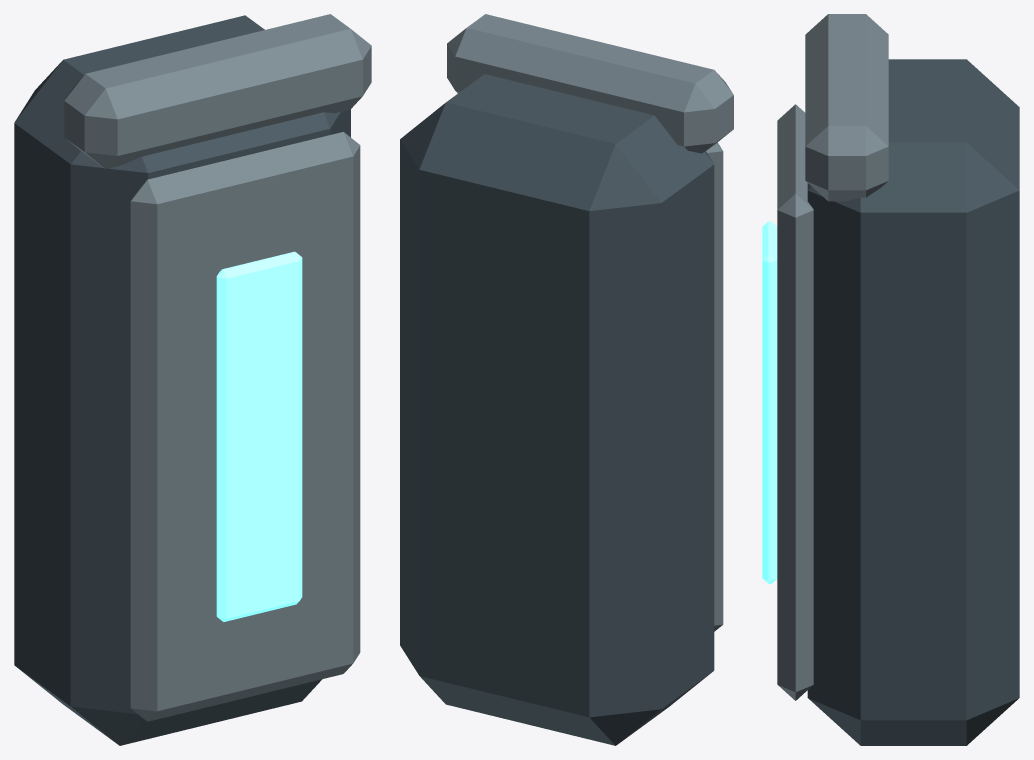
File: FTF_Equipment_EngineeringPlasticLegArmor_Left.glb
The picture shows the model from 3 angles, left to right: view 1: azimuth 30°, elevation 25°; view 2: azimuth 150°, elevation 25°; view 3: azimuth 270°, elevation 25°; orthographic projection. The views are drawn at different scales.
Visible parts, largest first — view 1: ShinOuterRim_L, ShinShell_L, ShinAccent_L, ShinTopCap_L; view 2: ShinShell_L, ShinTopCap_L, ShinOuterRim_L; view 3: ShinShell_L, ShinOuterRim_L, ShinTopCap_L, ShinAccent_L.
Part boxes in pixels (<box>): ShinOuterRim_L: <box>130,132,360,721</box>; ShinShell_L: <box>14,15,350,745</box>; ShinAccent_L: <box>216,251,302,621</box>; ShinTopCap_L: <box>64,14,371,168</box>; ShinShell_L: <box>400,74,714,745</box>; ShinTopCap_L: <box>447,14,733,153</box>; ShinOuterRim_L: <box>706,142,723,631</box>; ShinShell_L: <box>807,59,1019,745</box>; ShinOuterRim_L: <box>777,104,813,700</box>; ShinTopCap_L: <box>805,14,888,201</box>; ShinAccent_L: <box>762,221,777,583</box>.
Size of the model in its own units: 0.205 by 0.4625 by 0.17.
